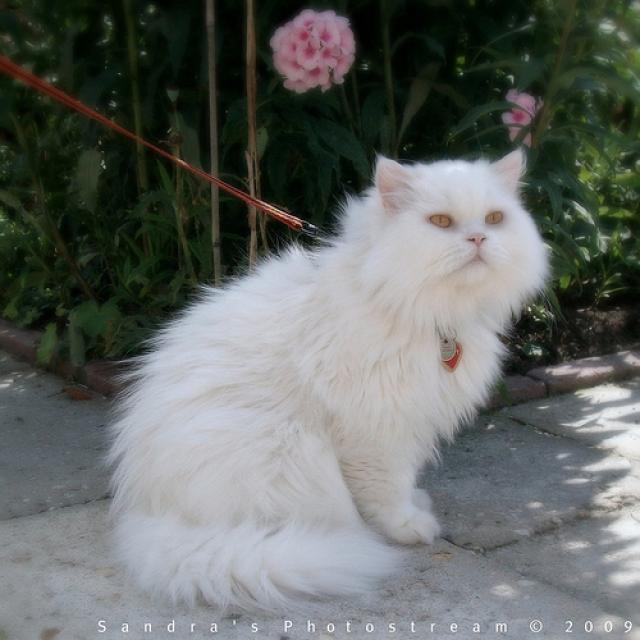cat: (374, 147, 521, 283)
